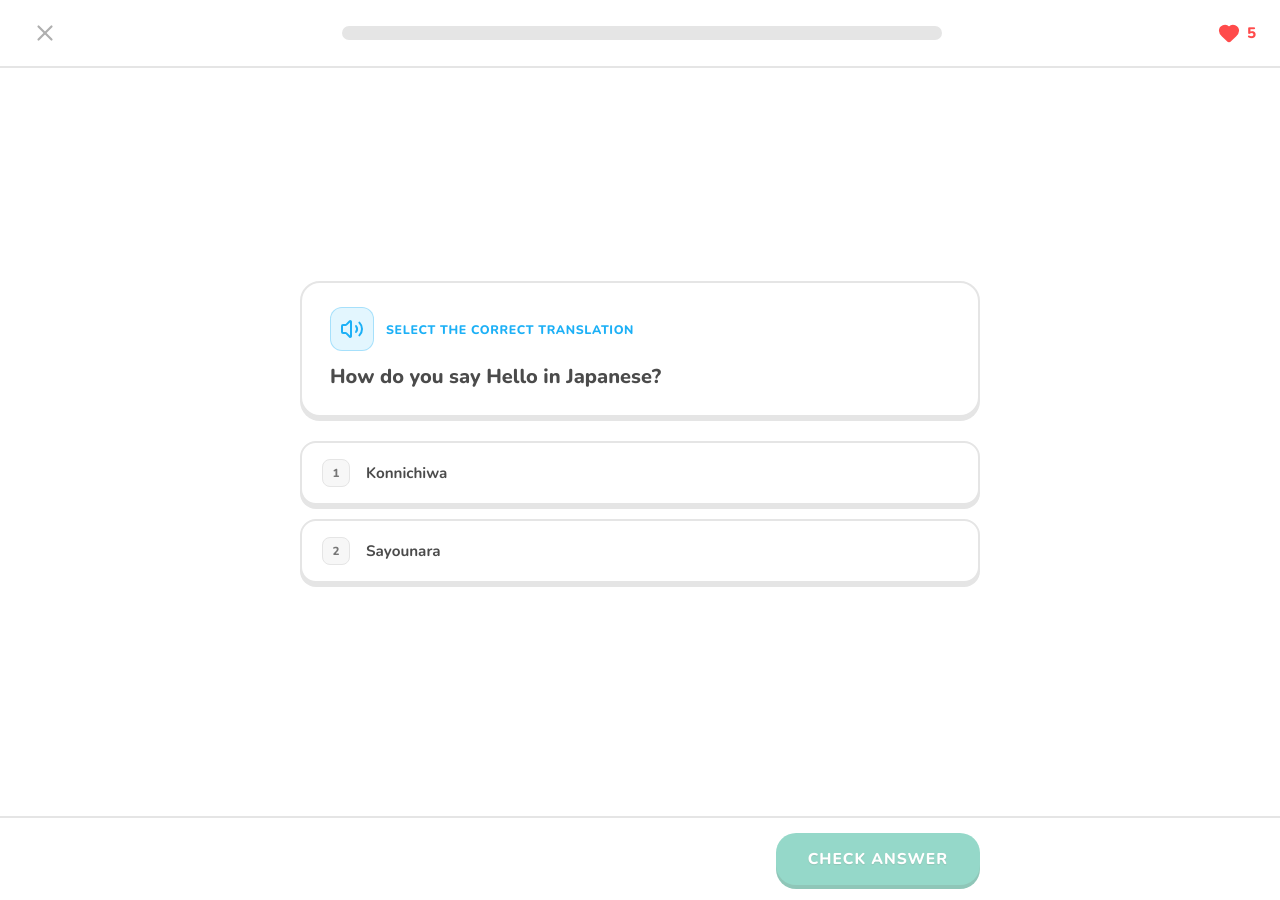
Test: LessonRunner Component (Quest Engine) › opens and closes quit confirmation modal
Click the button named "quit lesson" at (45, 33), box [24,12,66,54]
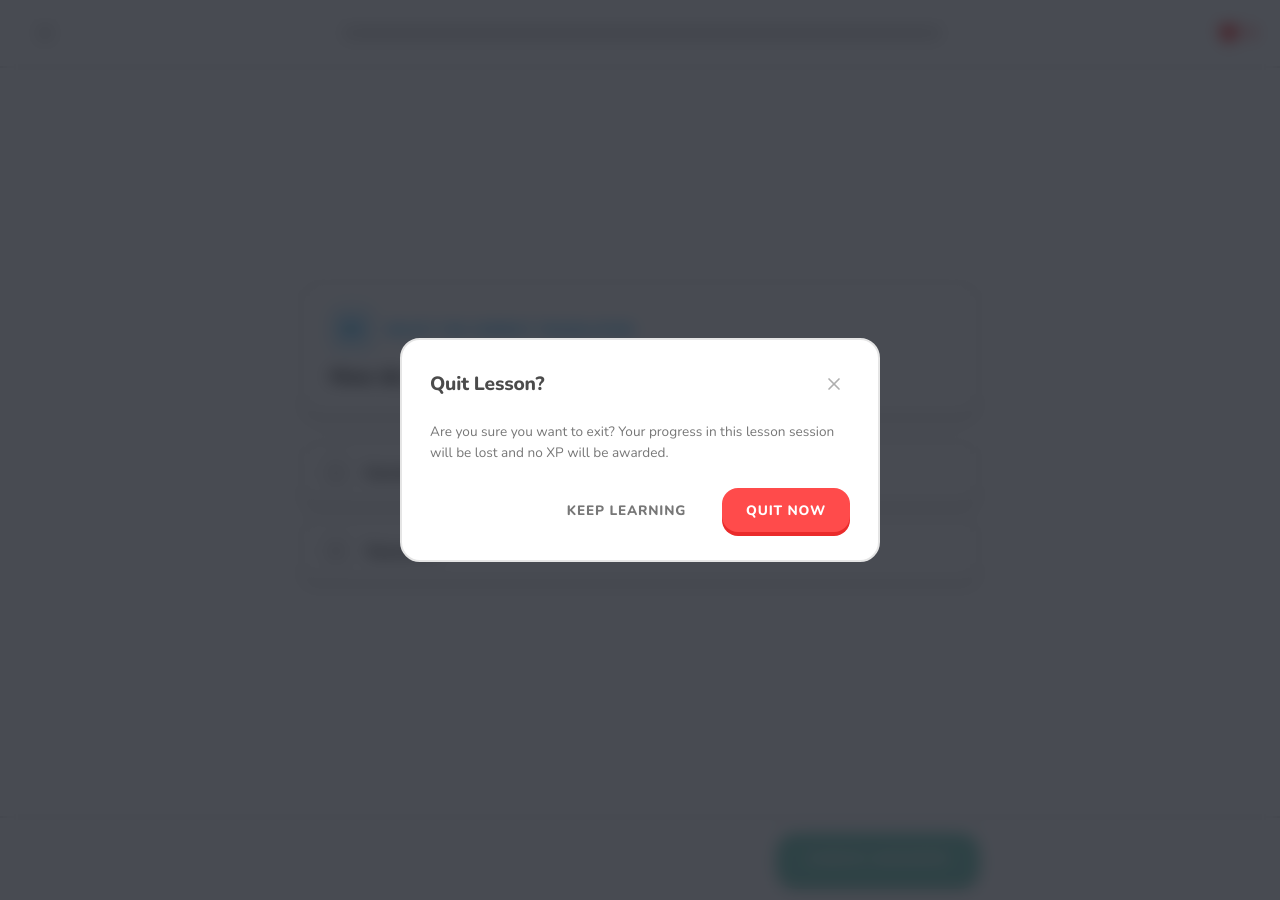
Expected: the dialog is shown, [400,338,880,562]
Expected: the heading "Quit Lesson?" is shown, [430,371,544,397]
Click the button "Keep Learning" at (626, 510), box [543,488,710,532]
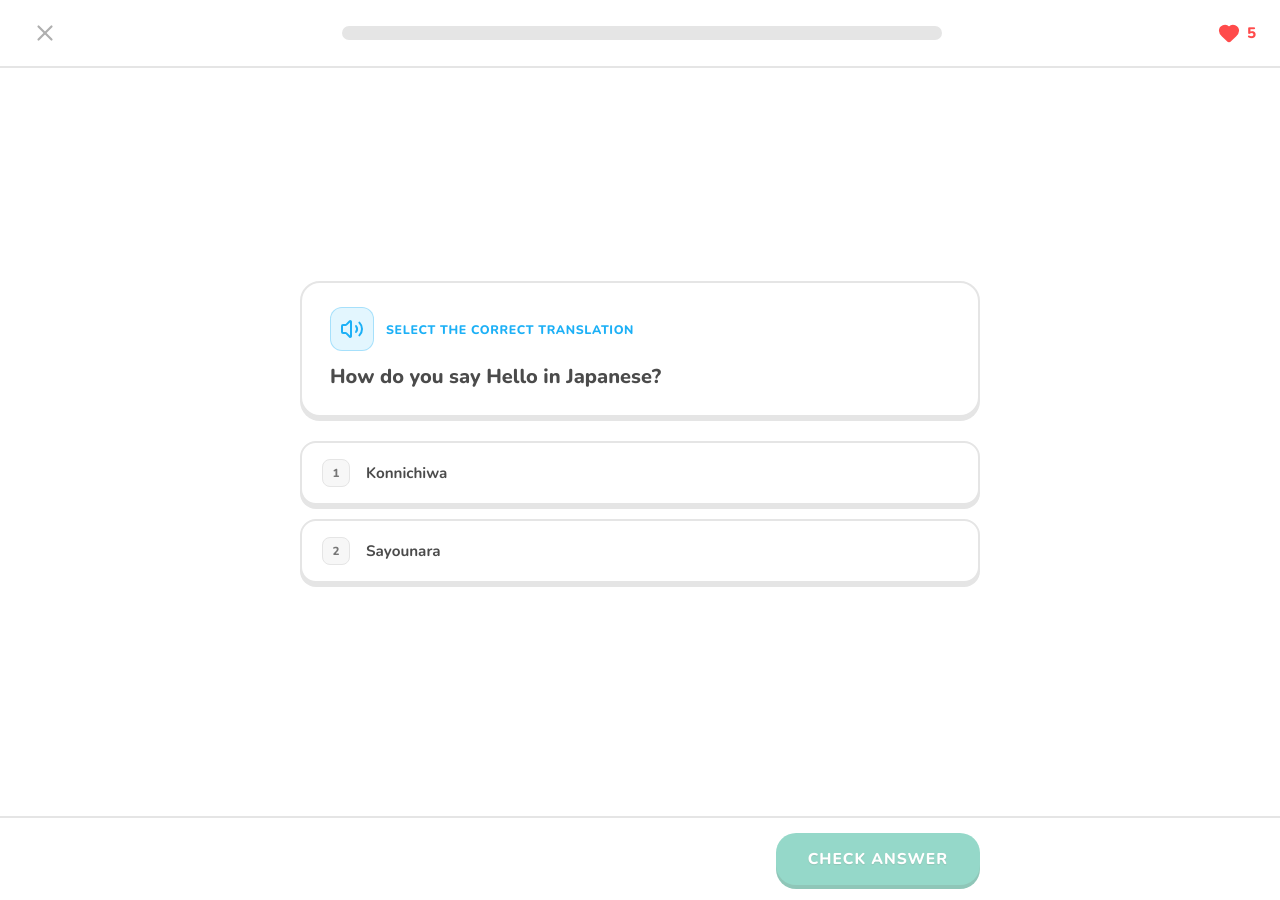
Expected: the dialog is gone
